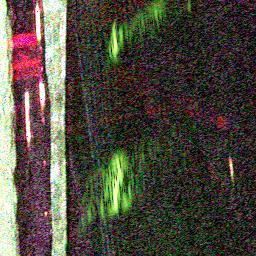Ship: (22, 89, 32, 143), (32, 6, 43, 43), (226, 153, 237, 182), (37, 79, 46, 107)
